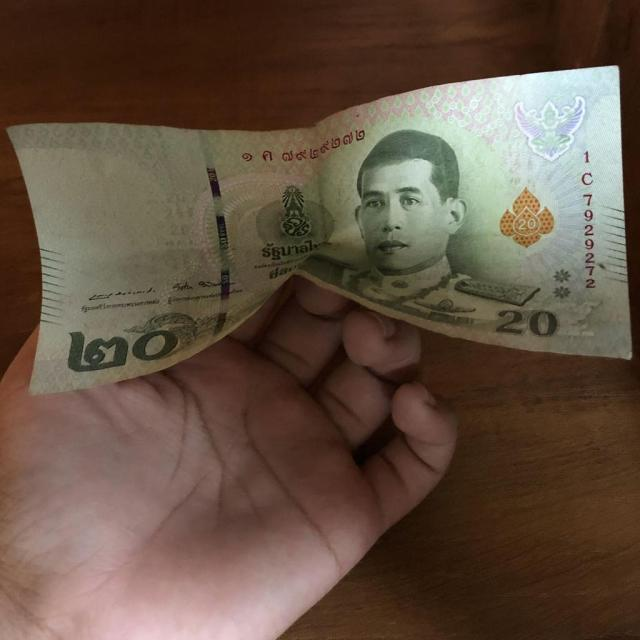THAI20: (6, 62, 634, 398)
